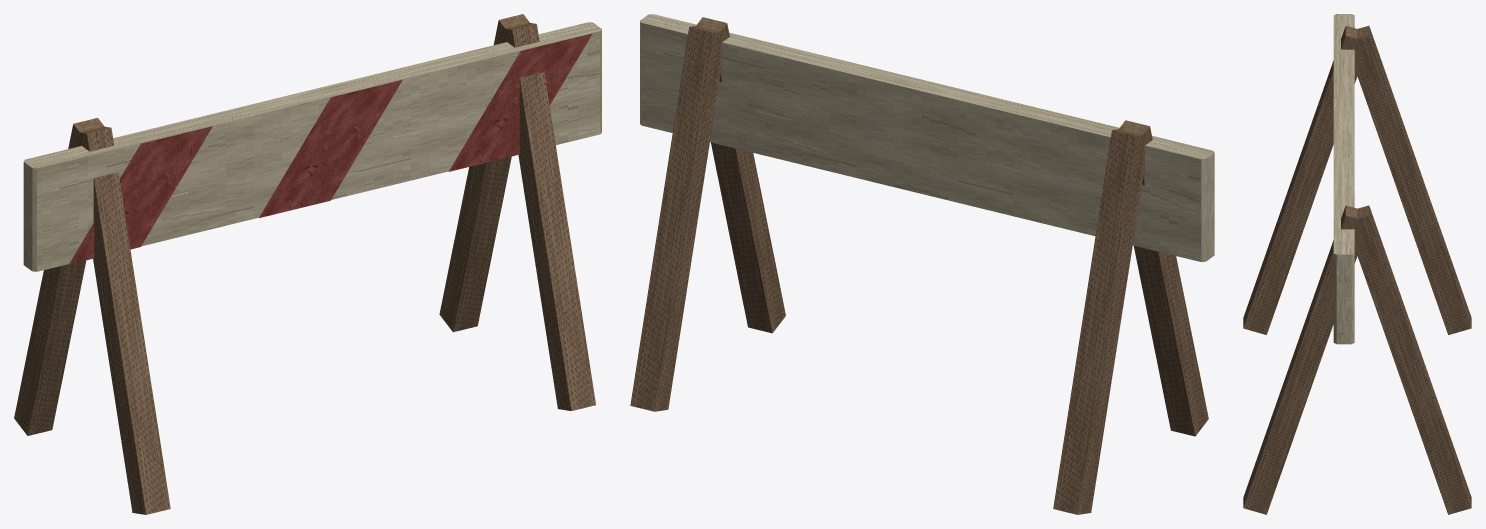
File: road_barrier.glb
3 views of the same model, side by side, from view 1: azimuth 30°, elevation 25°; view 2: azimuth 150°, elevation 25°; view 3: azimuth 270°, elevation 25° (orthographic). The views are drawn at different scales.
Parts seen in each view (by area): view 1: Body; view 2: Body; view 3: Body.
Boxes of the visible parts, x1,y1,x2,y2 form: Body: (14, 14, 601, 514); Body: (630, 14, 1214, 514); Body: (1243, 14, 1471, 514).
Bounding box in the file's own units: 1.5 × 0.8697 × 0.6019.
1 material, 1 textured.
